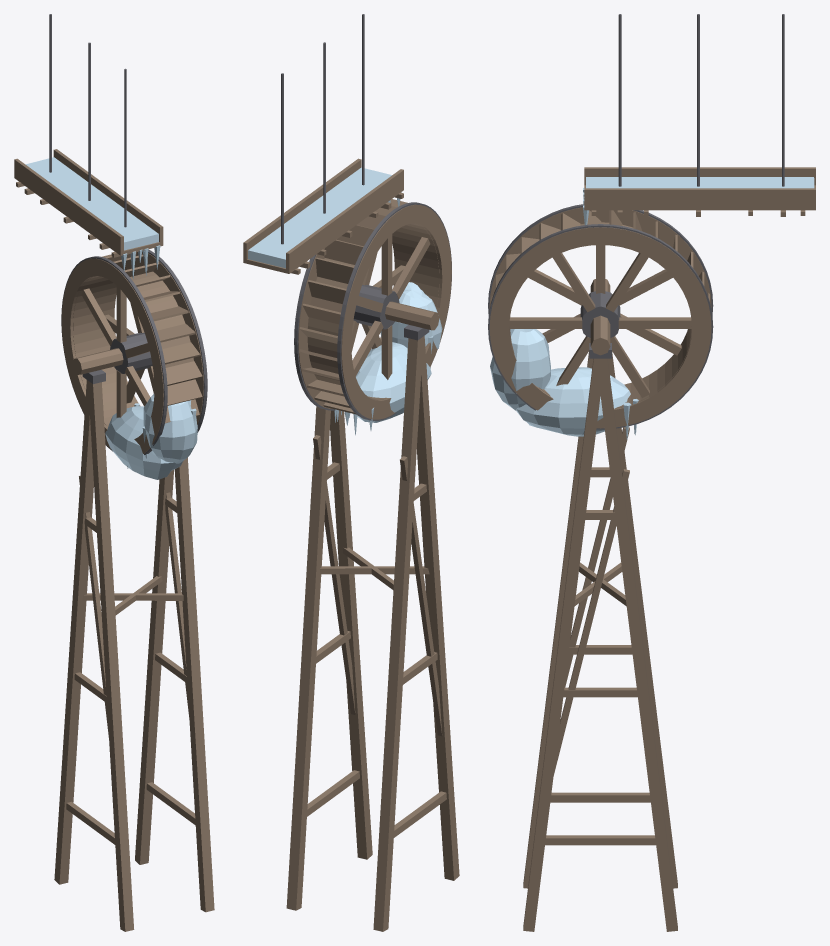
Rendered from PR_Roda_Agua.fbx.
The picture shows the model from 3 angles, left to right: view 1: azimuth 30°, elevation 25°; view 2: azimuth 150°, elevation 25°; view 3: azimuth 270°, elevation 25°; orthographic projection. The views are drawn at different scales.
Parts seen in each view (by area): view 1: PR_Roda_Agua; view 2: PR_Roda_Agua; view 3: PR_Roda_Agua.
Part boxes in pixels (bbox=[...]): PR_Roda_Agua: bbox=[14, 14, 214, 931]; PR_Roda_Agua: bbox=[243, 14, 459, 931]; PR_Roda_Agua: bbox=[488, 14, 815, 931].
Bounding box in the file's own units: 4.4 × 30.22 × 10.05.
